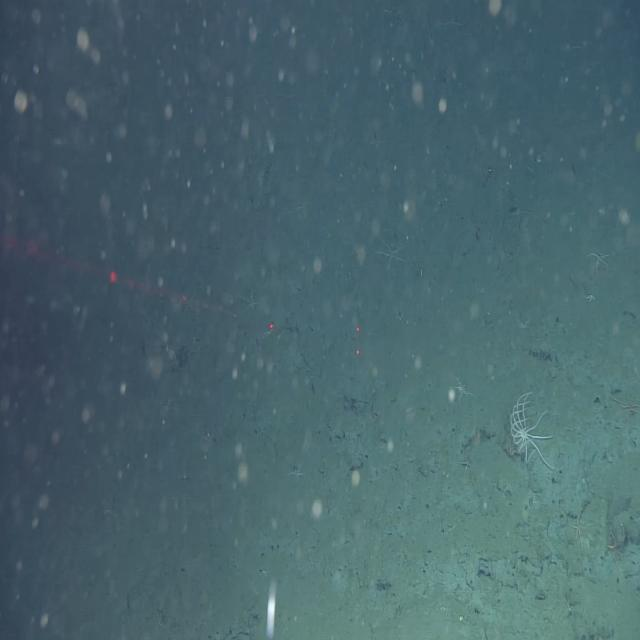Brittle Star: (236, 282, 266, 320)
